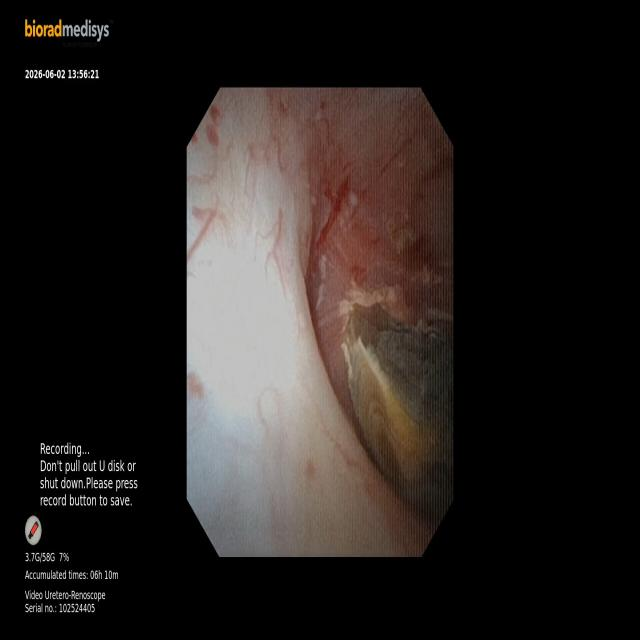stone-new: (341, 303, 453, 514)
